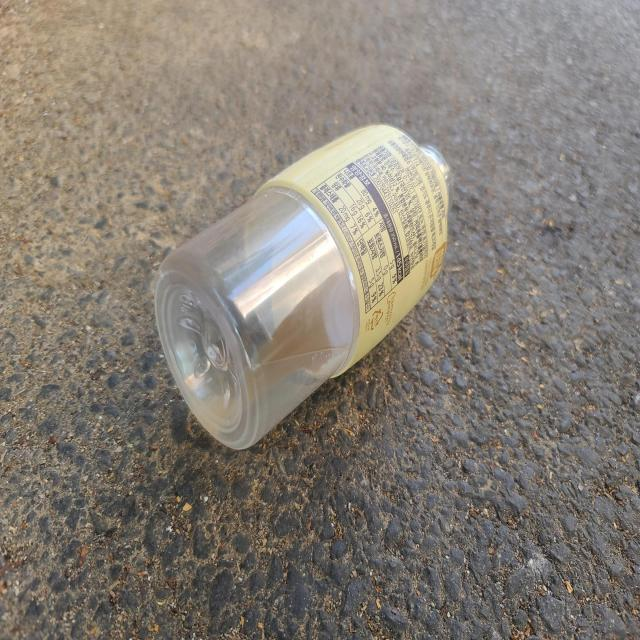plastic: (155, 124, 452, 450)
